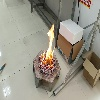fire: (41, 23, 55, 69)
